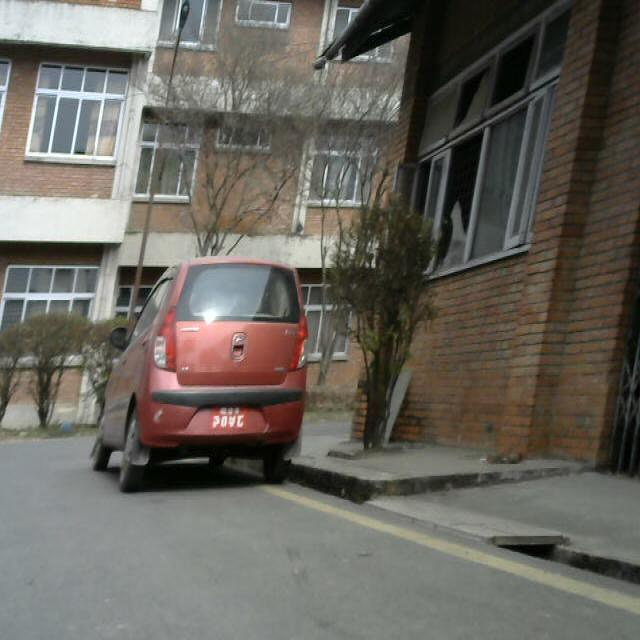Car: (0, 0, 636, 341), (88, 261, 308, 522)
Road: (0, 437, 493, 640)
